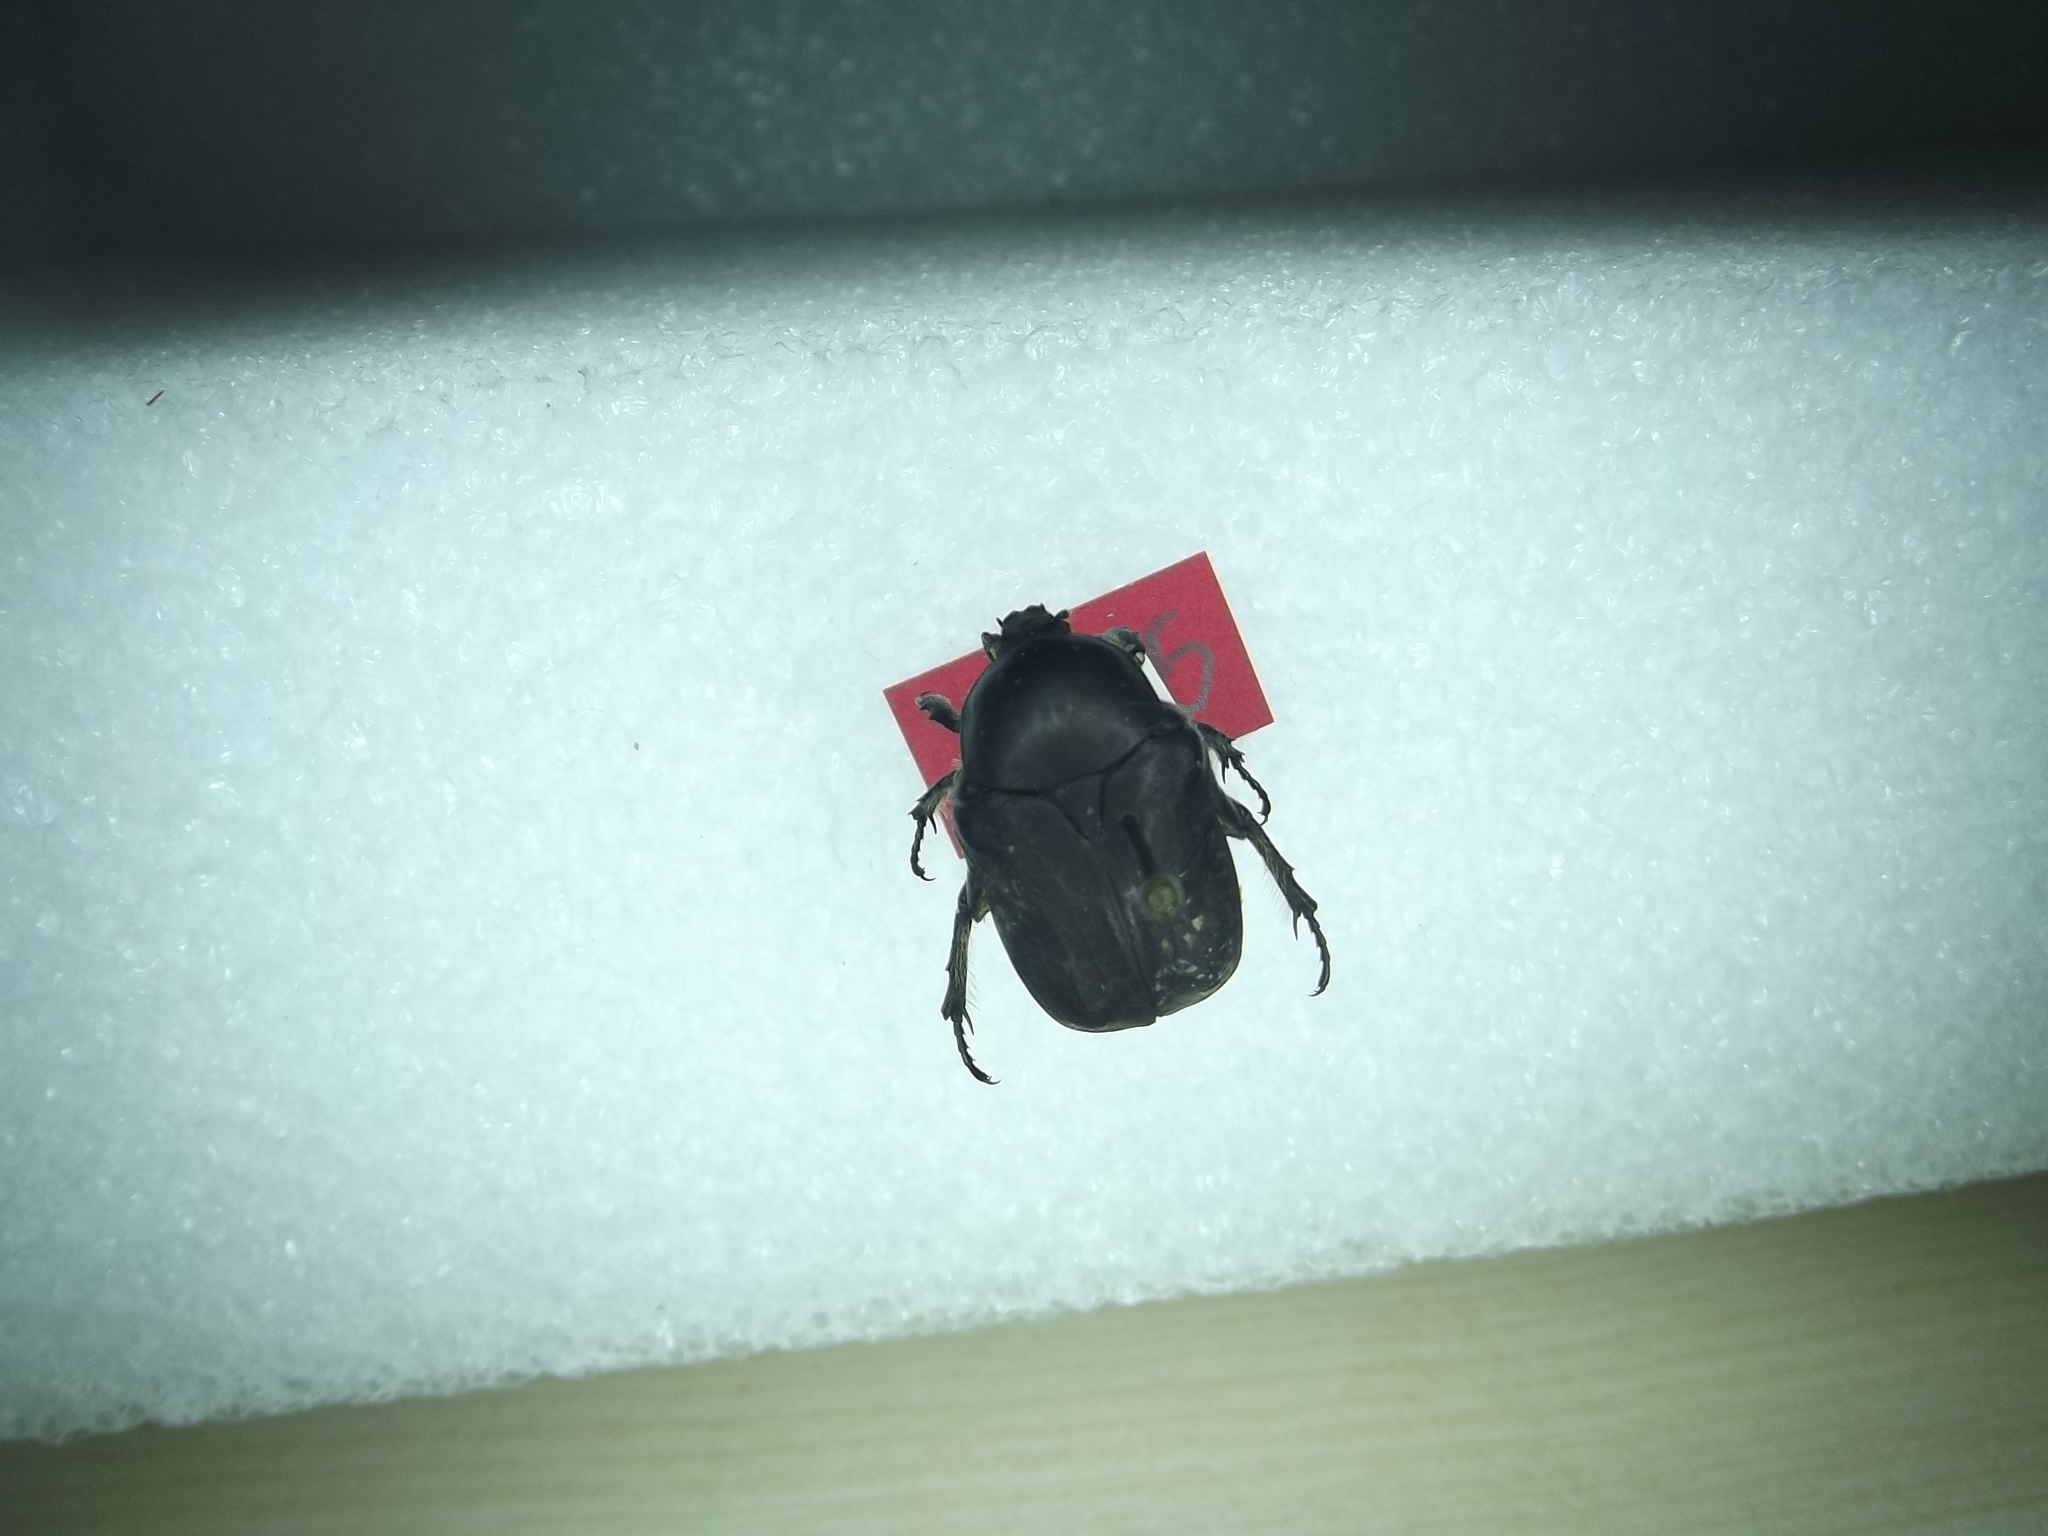Protaetia_asiatica: (900, 607, 1367, 1091)
